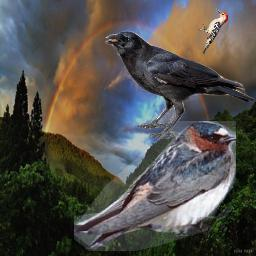Crow: (105, 30, 255, 139)
Swallow: (74, 121, 236, 251)
Woodpecker: (198, 8, 229, 54)
